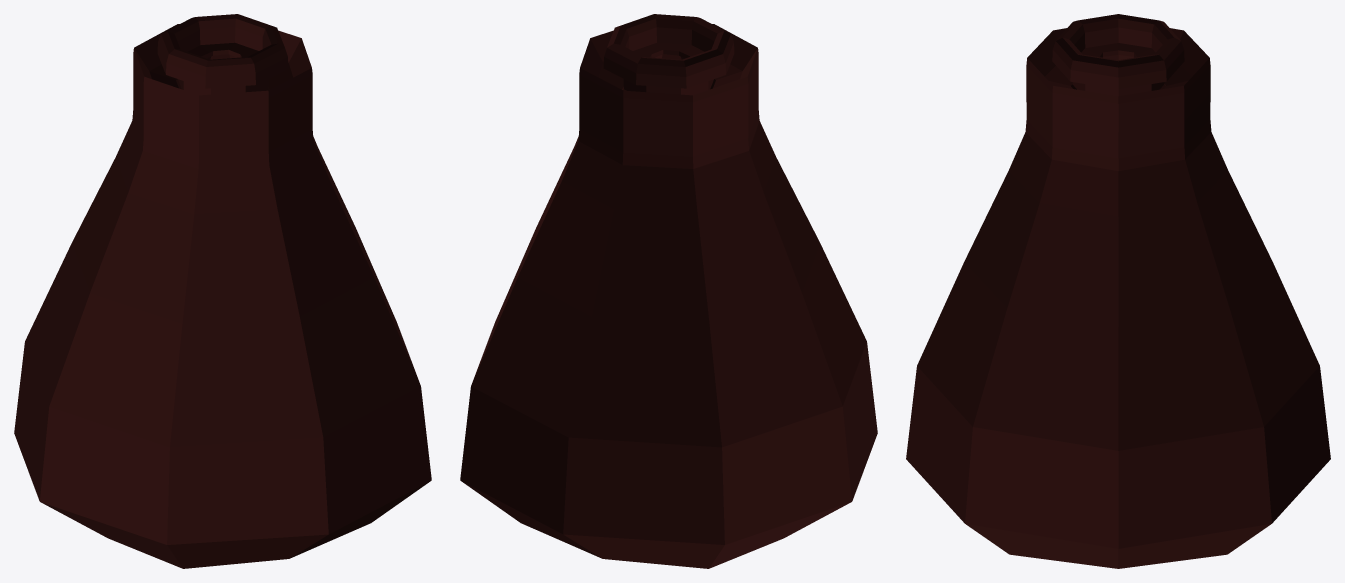
File: Vase 6.fbx
The picture shows the model from 3 angles, left to right: view 1: azimuth 30°, elevation 25°; view 2: azimuth 150°, elevation 25°; view 3: azimuth 270°, elevation 25°; orthographic projection.
Visible parts, largest first — view 1: Node 0; view 2: Node 0; view 3: Node 0.
Part boxes in pixels (box(x1,y1,x2,y2)): Node 0: box(14, 14, 431, 568); Node 0: box(460, 14, 877, 568); Node 0: box(906, 14, 1330, 568).
Size of the model in its own units: 0.1325 by 0.1667 by 0.1325.
